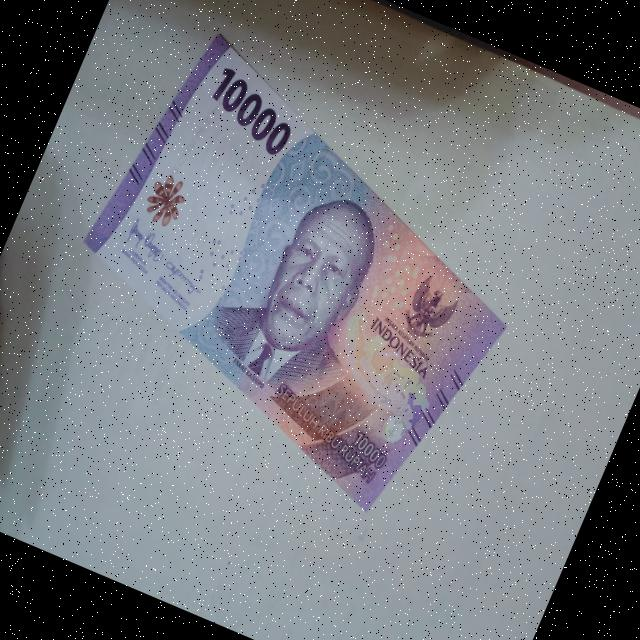10K: (16, 0, 576, 539)
